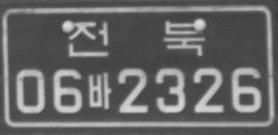0: (16, 68, 45, 112)
2: (116, 67, 148, 114), (192, 66, 224, 113)
3: (155, 67, 186, 113)
6: (230, 66, 262, 114), (52, 67, 82, 114)
바: (88, 72, 112, 109)
전북_D: (68, 19, 205, 57)
